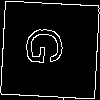G: (24, 25, 72, 68)
